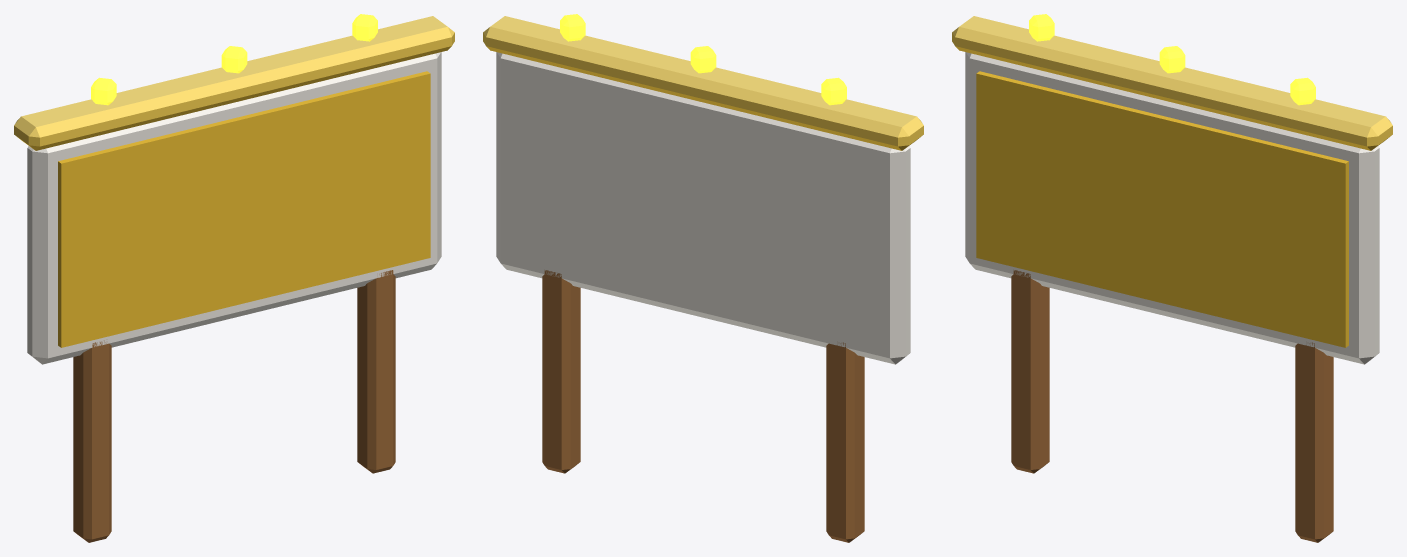
The model's file is OwnerBoard_2.glb.
3 views of the same model, side by side, from view 1: azimuth 30°, elevation 25°; view 2: azimuth 150°, elevation 25°; view 3: azimuth 330°, elevation 25° (orthographic).
Parts seen in each view (by area): view 1: OwnerBoard_2, OwnerBoard_2_Glow_acc2; view 2: OwnerBoard_2, OwnerBoard_2_Glow_acc2; view 3: OwnerBoard_2, OwnerBoard_2_Glow_acc2.
Part boxes in pixels (left/top/right/bottom): OwnerBoard_2: left=14, top=16, right=454, bottom=542; OwnerBoard_2_Glow_acc2: left=91, top=14, right=377, bottom=105; OwnerBoard_2: left=483, top=16, right=923, bottom=542; OwnerBoard_2_Glow_acc2: left=560, top=14, right=846, bottom=105; OwnerBoard_2: left=952, top=16, right=1392, bottom=542; OwnerBoard_2_Glow_acc2: left=1029, top=14, right=1315, bottom=105.
Size of the model in its own units: 15 by 15.25 by 1.4.
Materials: 2 (1 with a texture image).
